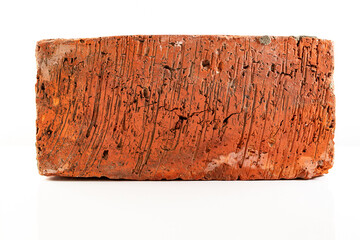brick: (38, 38, 332, 178)
